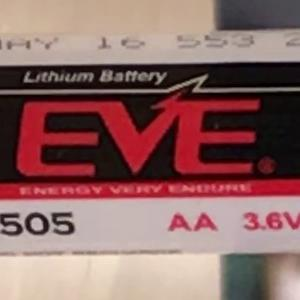LITHIUM: (14, 64, 102, 92)
